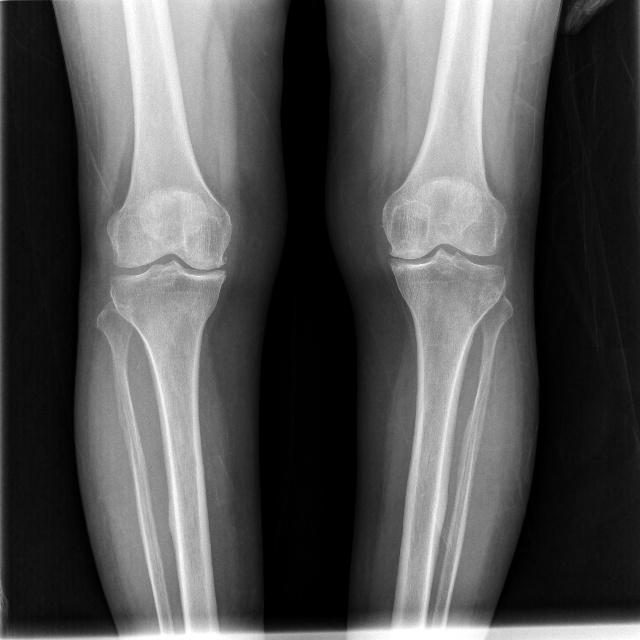Knee: (102, 210, 234, 321), (378, 201, 506, 307)
